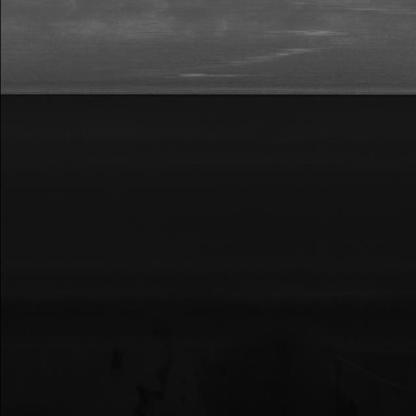silk_spot: (140, 5, 364, 81)
